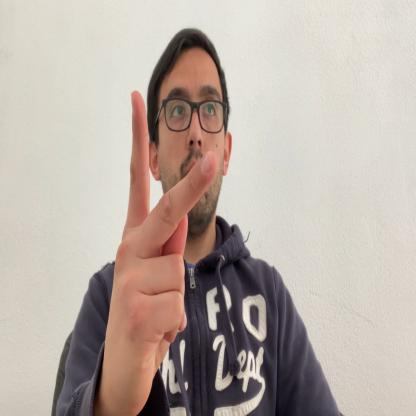P: (108, 88, 219, 407)
